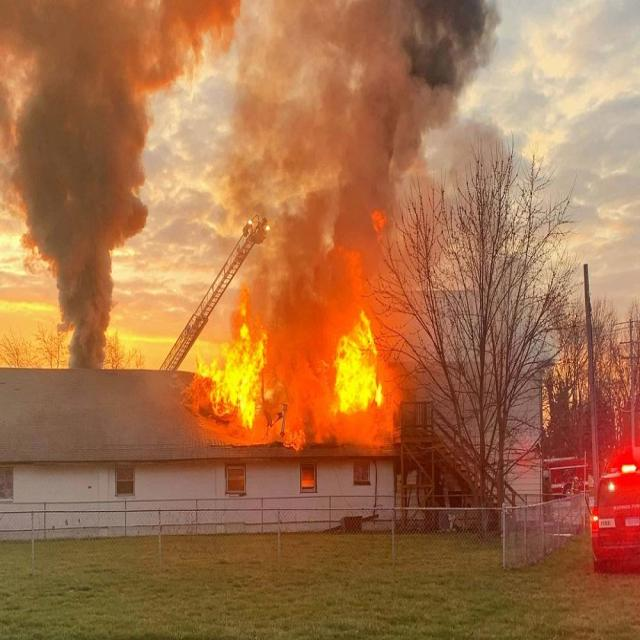Fire: (188, 244, 401, 449), (368, 208, 388, 244)
